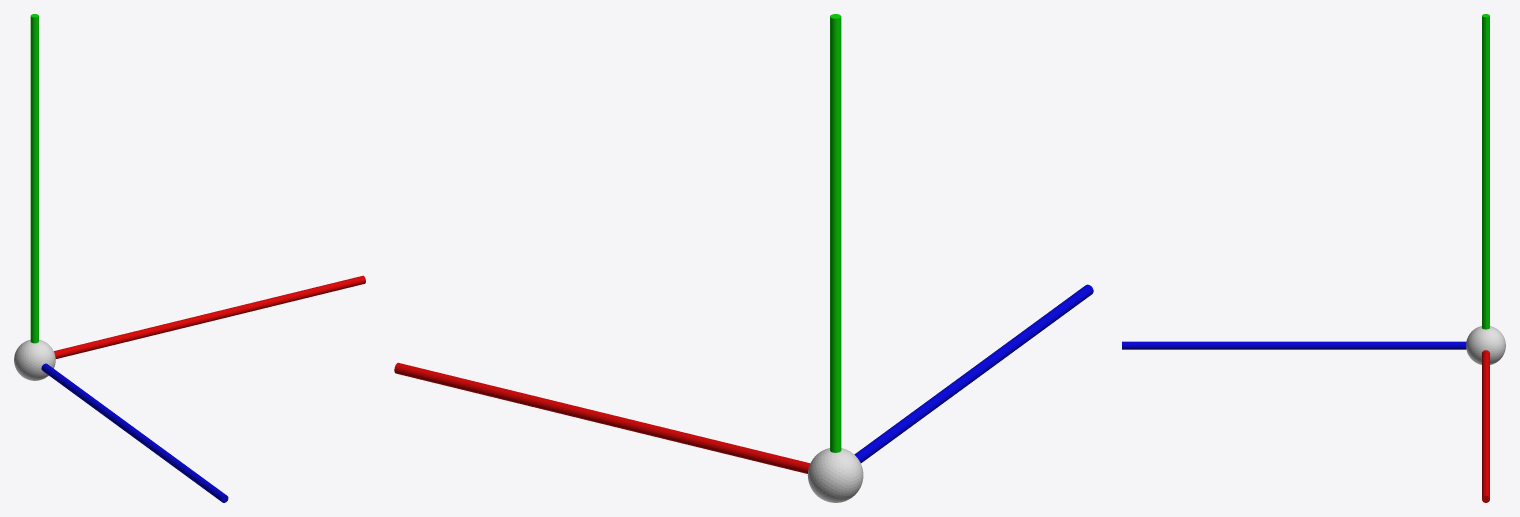
Rendered from scene_0000_view_0000_camera.glb.
3 renders of one model, left to right at view 1: azimuth 30°, elevation 25°; view 2: azimuth 150°, elevation 25°; view 3: azimuth 270°, elevation 25°, orthographic. The views are drawn at different scales.
Visible parts, largest first — view 1: camera_frame; view 2: camera_frame; view 3: camera_frame.
Boxes of the visible parts, x1,y1,x2,y2 form: camera_frame: [14, 14, 365, 502]; camera_frame: [394, 14, 1093, 502]; camera_frame: [1122, 14, 1505, 502].
Bounding box in the file's own units: 0.1266 × 0.1266 × 0.1266.
